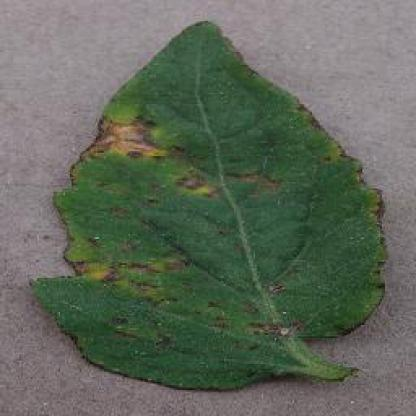bad leaf: (87, 25, 379, 384)
